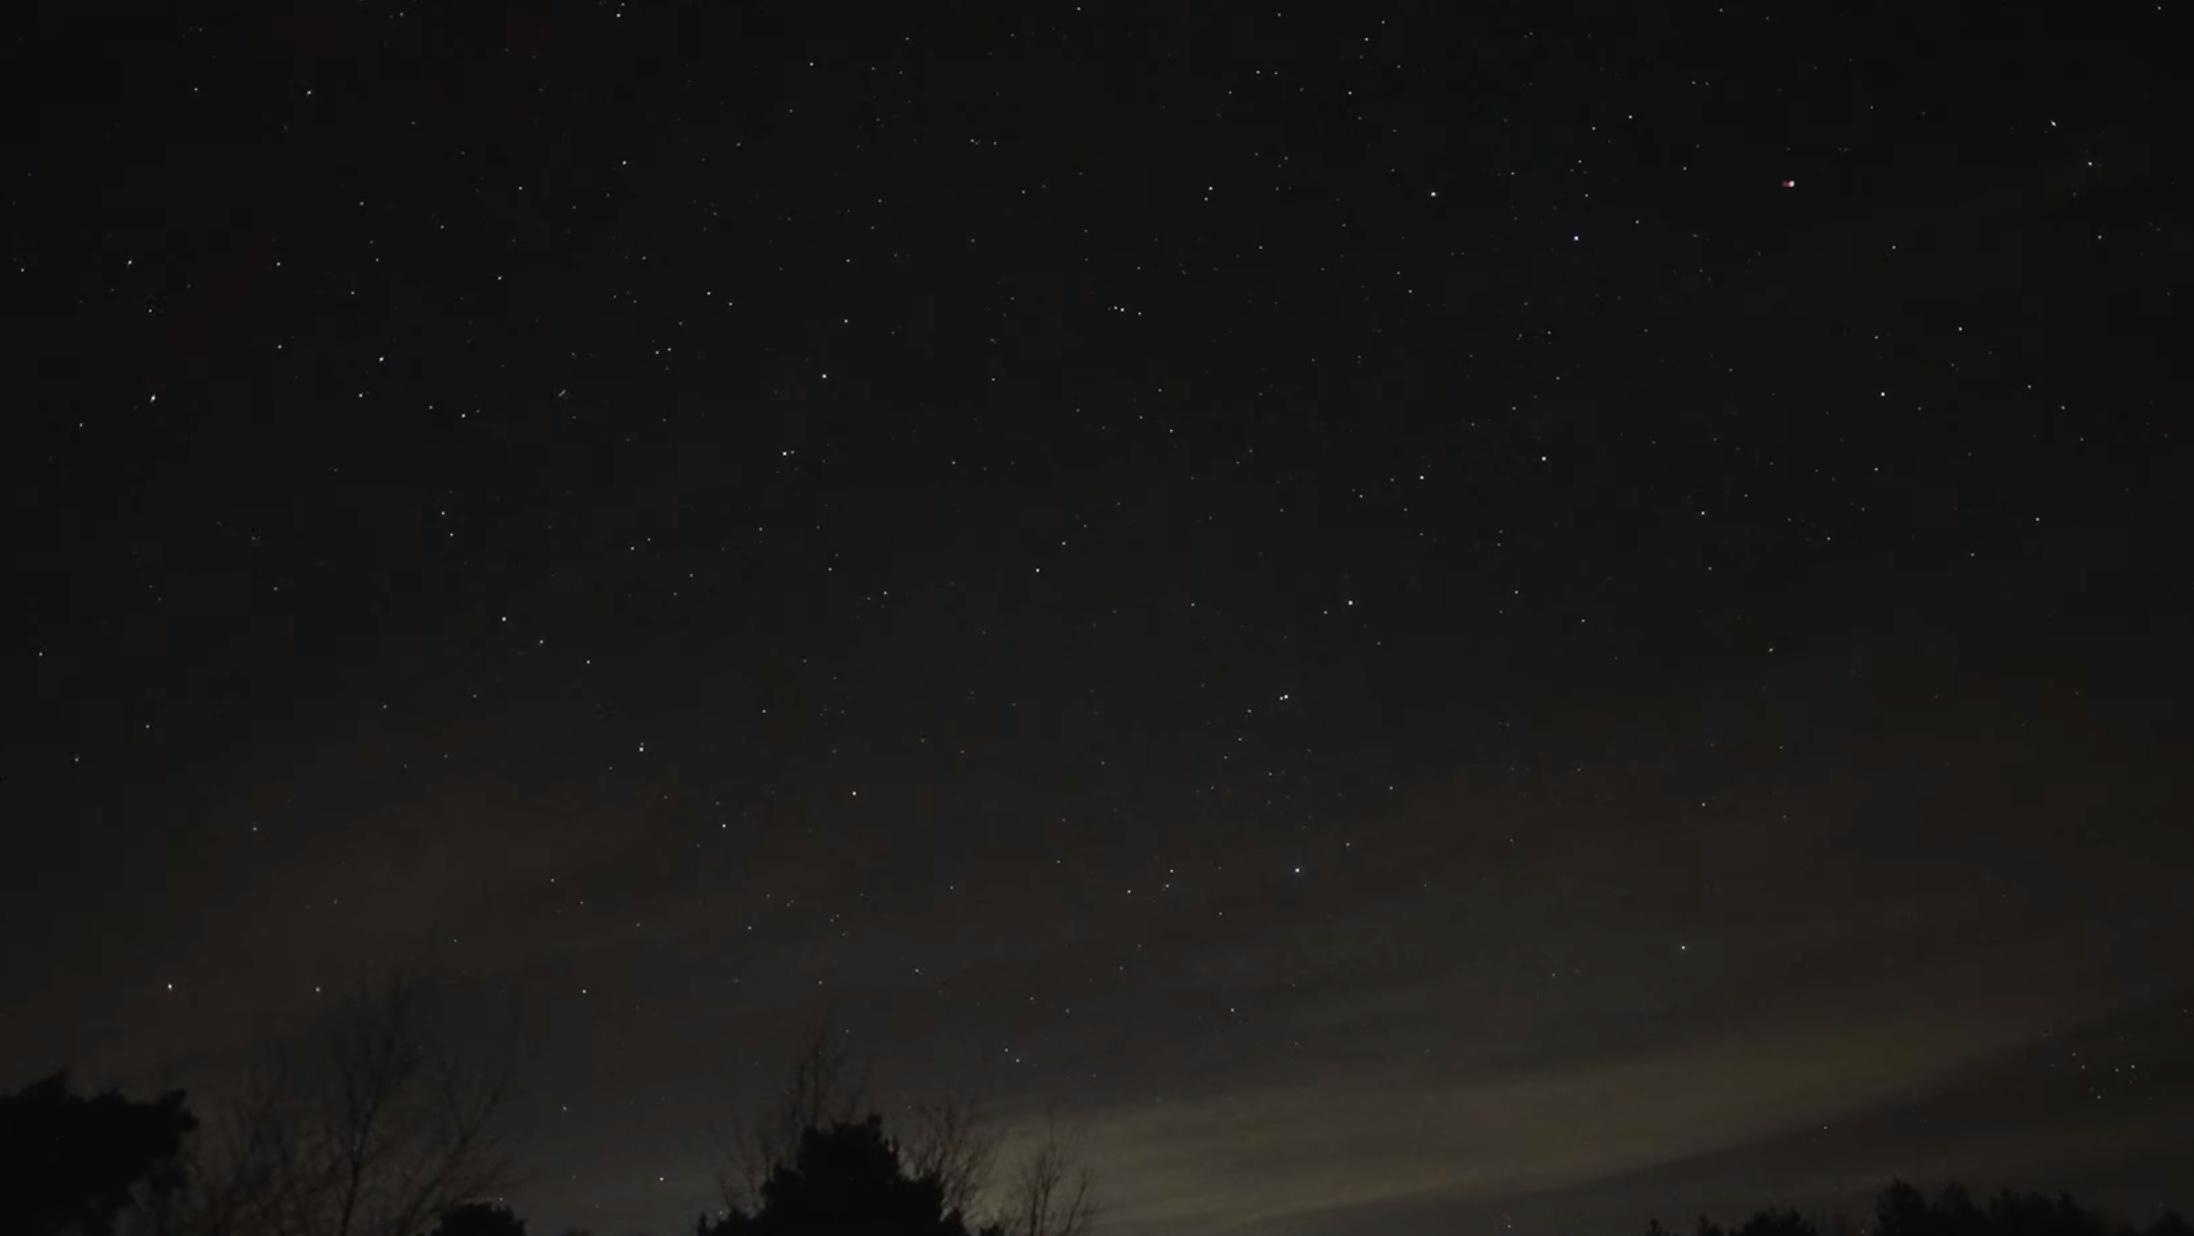Plane: (1771, 172, 1810, 197)
